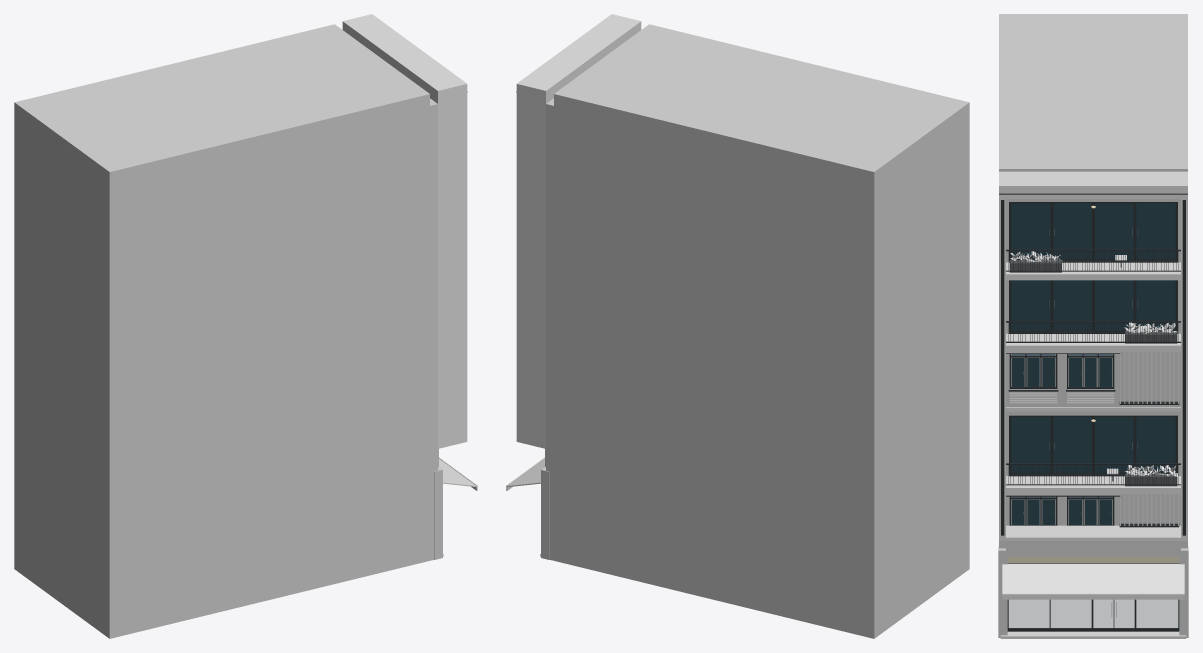
File: OW_Mau_NhaPho_8_0_2_B.fbx
3 views of the same model, side by side, from view 1: azimuth 30°, elevation 25°; view 2: azimuth 150°, elevation 25°; view 3: azimuth 270°, elevation 25° (orthographic).
Parts seen in each view (by area): view 1: OW_NhaPho_9045; view 2: OW_NhaPho_9045; view 3: OW_NhaPho_9045, OW_MatTienKinh.
Part boxes in pixels (x1,y1,x2,y2): OW_NhaPho_9045: (14, 14, 477, 638); OW_NhaPho_9045: (506, 14, 969, 638); OW_NhaPho_9045: (998, 14, 1188, 638); OW_MatTienKinh: (1007, 557, 1179, 631).
Bounding box in the file's own units: 17.77 × 21.5 × 8.
